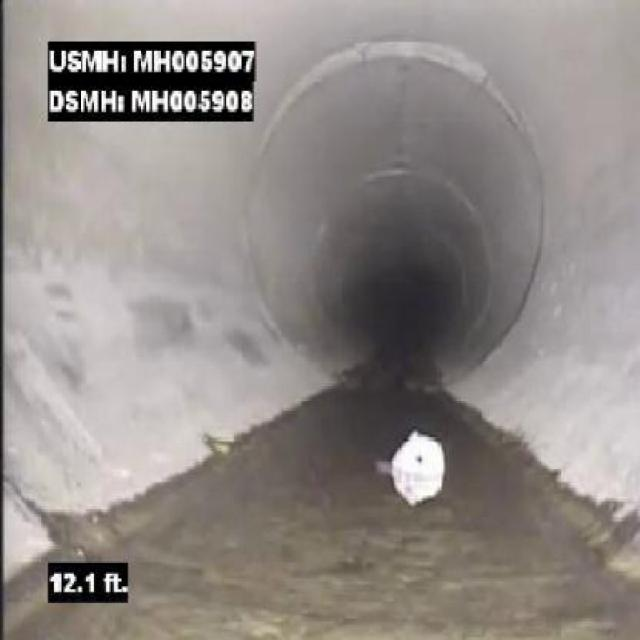Joint offset: (289, 33, 506, 96)
